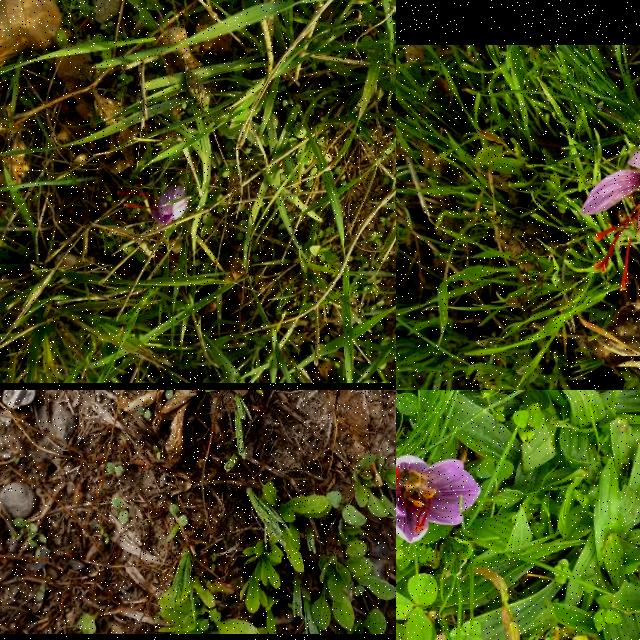flower: (581, 146, 640, 290), (396, 454, 482, 543), (124, 187, 188, 225)
